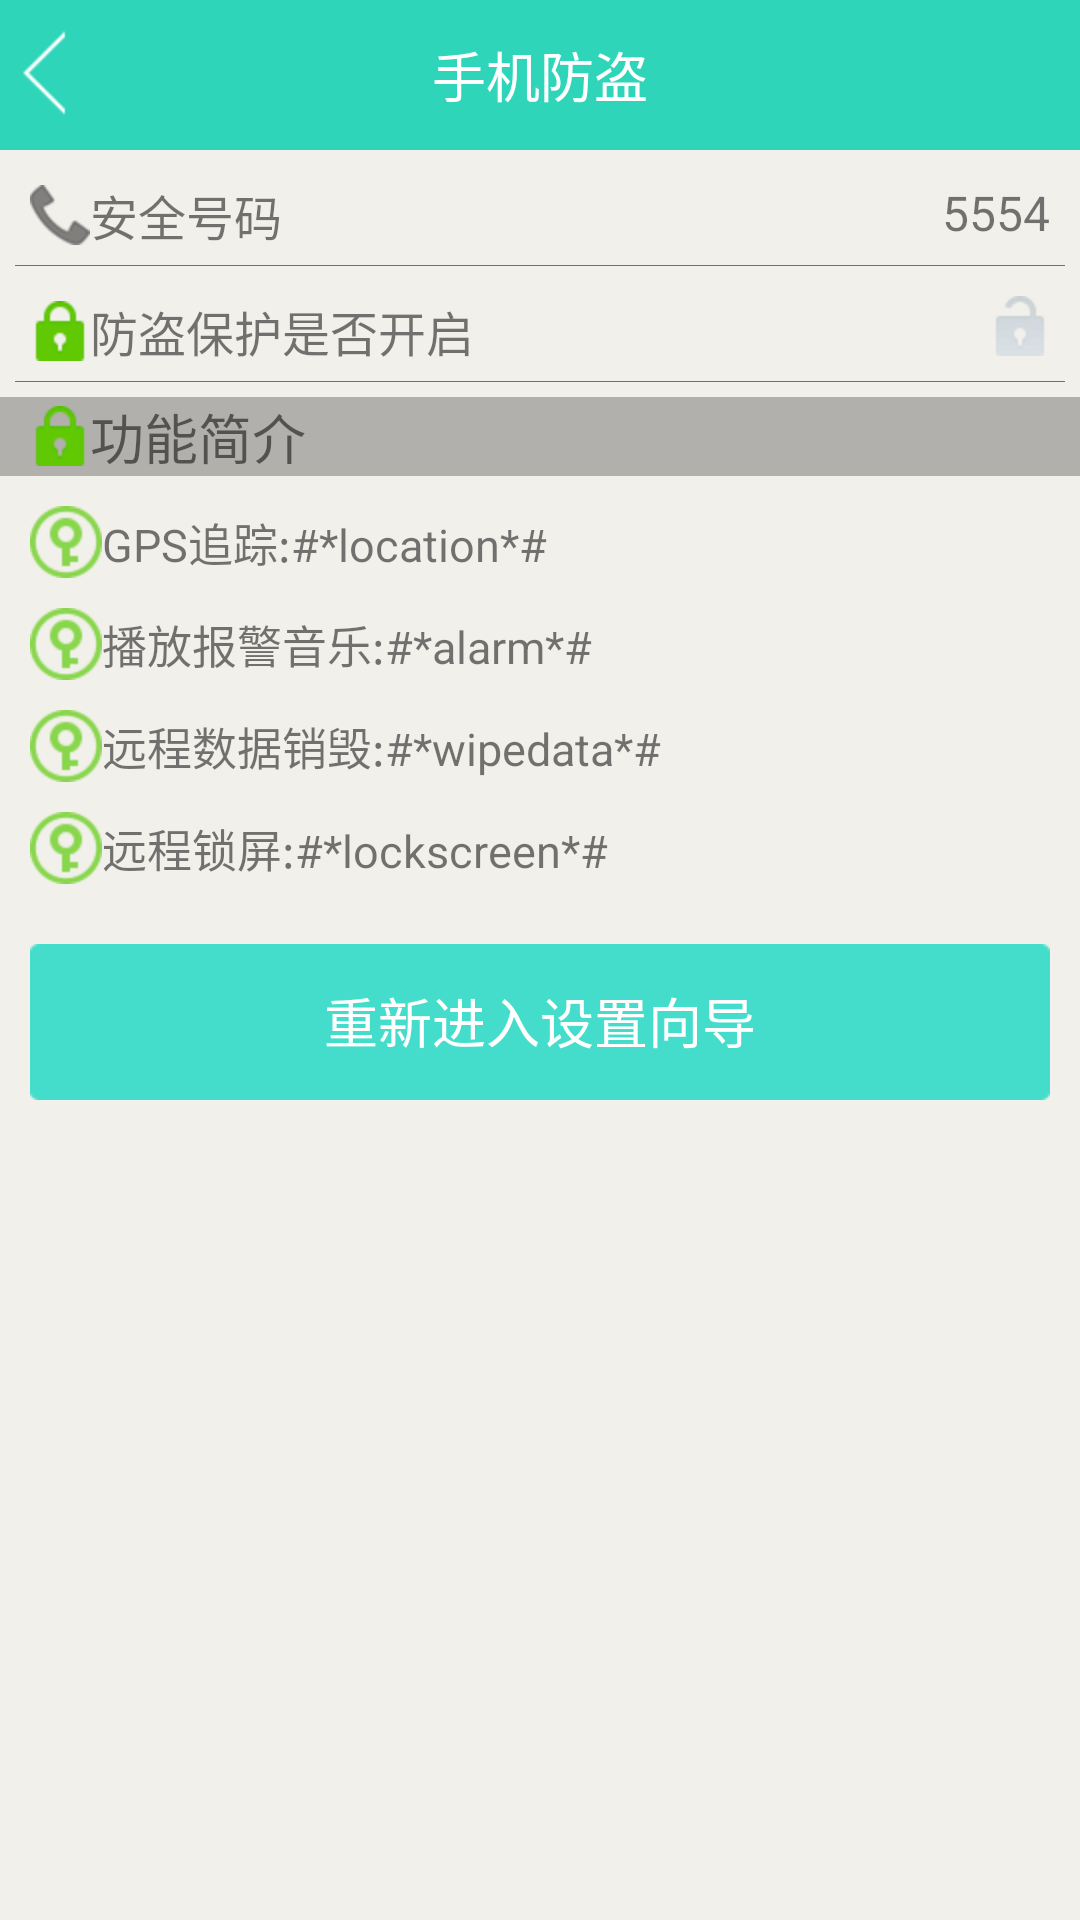

Locate icon controls on the screen. Image size 1080px x 1920px, boxes as [left=x1, top=y1, right=x2, bottom=y2].
our group back on: [left=23, top=31, right=65, bottom=115]
strongbox app lock unlock: [left=996, top=296, right=1044, bottom=353]
